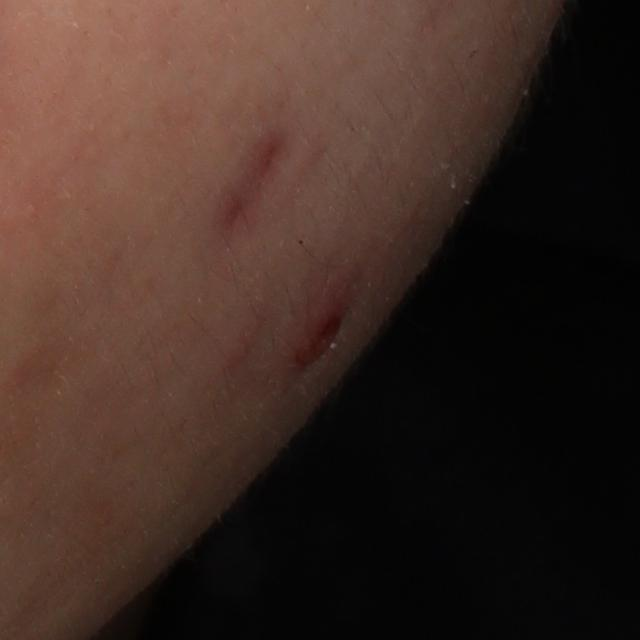atrophic_scar: (205, 123, 301, 244)
papule: (275, 278, 356, 391)
